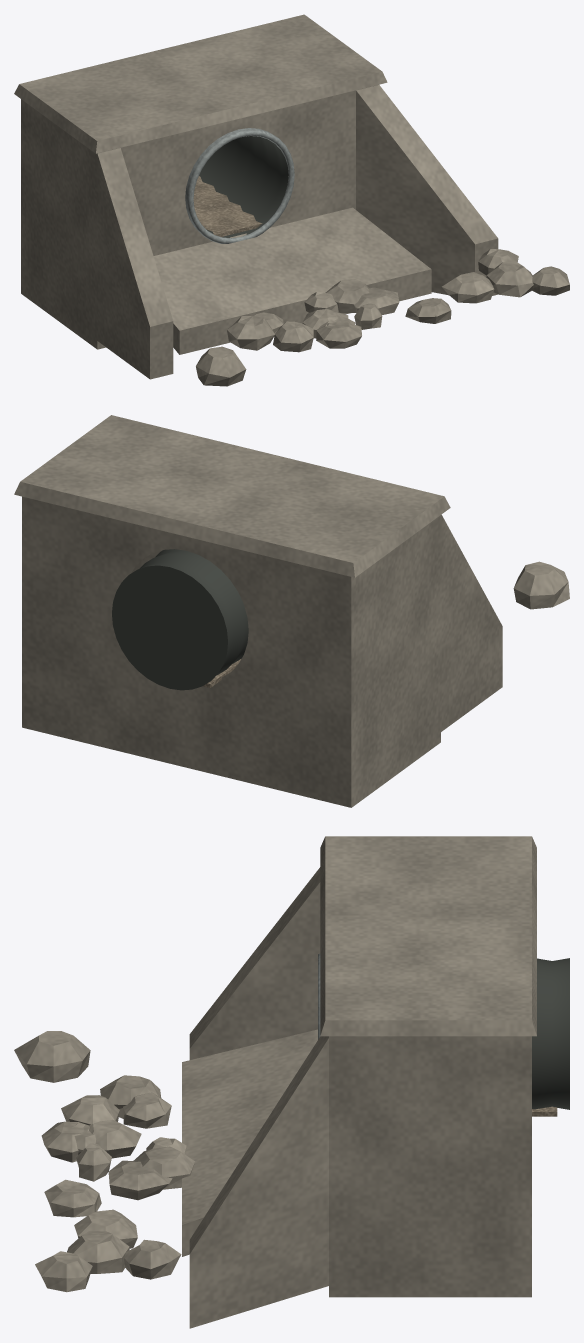
The model's file is SM_SubstationField_Culvert.fbx.
3 views of the same model, one above another, from view 1: azimuth 30°, elevation 25°; view 2: azimuth 150°, elevation 25°; view 3: azimuth 270°, elevation 25° (orthographic). The views are drawn at different scales.
Parts seen in each view (by area): view 1: SM_SubstationField_Culvert; view 2: SM_SubstationField_Culvert; view 3: SM_SubstationField_Culvert.
Boxes of the visible parts, <box> form: SM_SubstationField_Culvert: <box>14,14,569,386</box>; SM_SubstationField_Culvert: <box>14,415,569,807</box>; SM_SubstationField_Culvert: <box>14,836,569,1328</box>.
Size of the model in its own units: 2.28 by 2.19 by 1.21.
